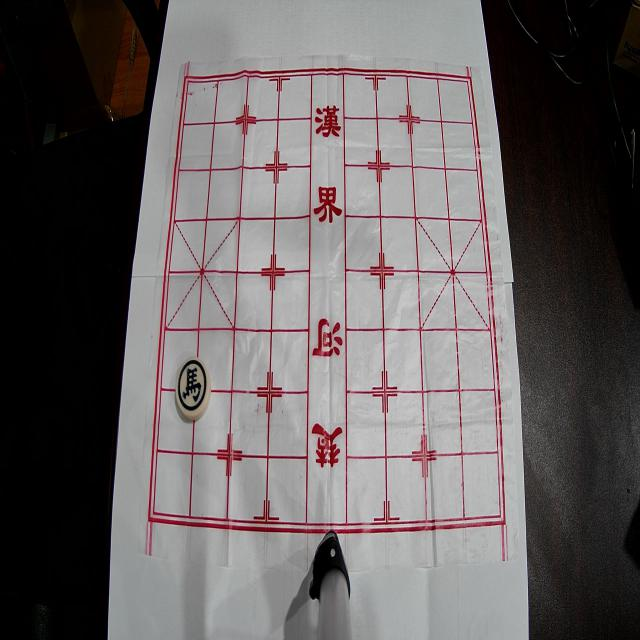black-horse: (175, 356, 211, 421)
